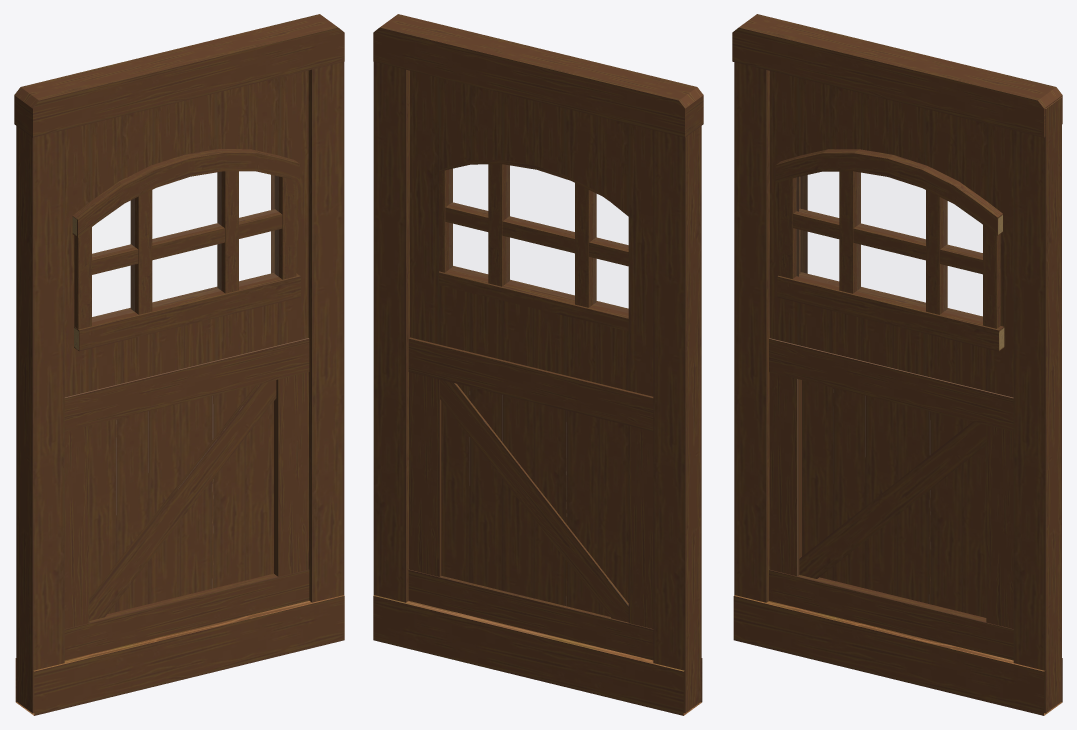
The model's file is Door_1_Flat.glb.
The picture shows the model from 3 angles, left to right: view 1: azimuth 30°, elevation 25°; view 2: azimuth 150°, elevation 25°; view 3: azimuth 330°, elevation 25°; orthographic projection.
Parts seen in each view (by area): view 1: Door_1_Flat; view 2: Door_1_Flat; view 3: Door_1_Flat.
Part boxes in pixels (left/top/right/bottom): Door_1_Flat: left=14, top=14, right=344, bottom=715; Door_1_Flat: left=373, top=14, right=703, bottom=715; Door_1_Flat: left=732, top=14, right=1062, bottom=715.
Size of the model in its own units: 1.12 by 2.1 by 0.1207.
2 materials, 1 textured.
